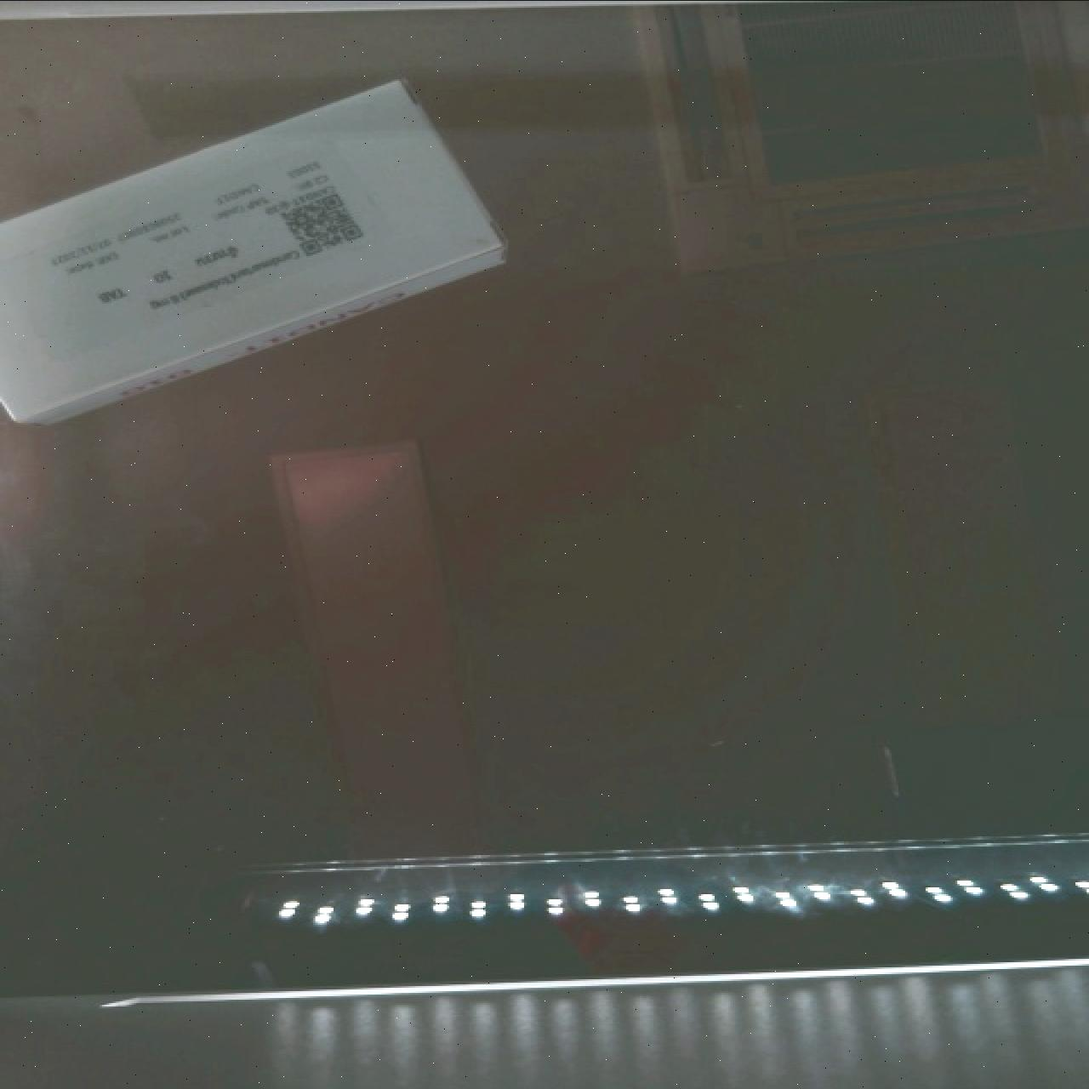qr_code: (258, 155, 388, 290)
